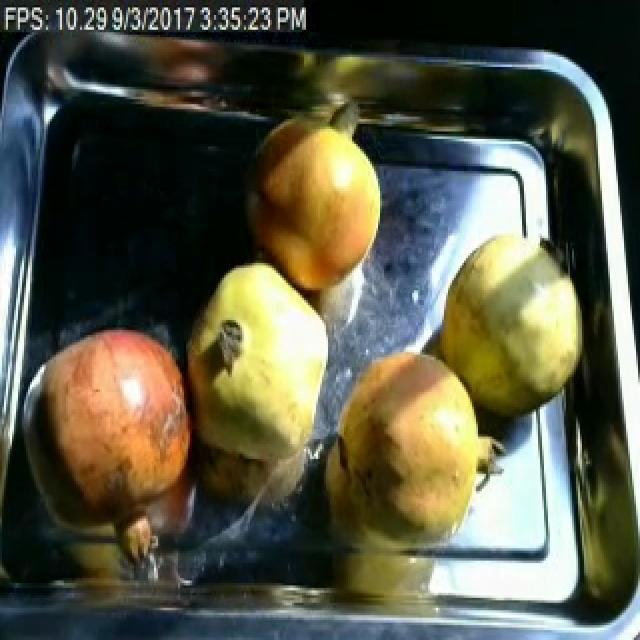fruit: (18, 313, 212, 563), (320, 332, 512, 560), (174, 256, 344, 498), (430, 216, 588, 424), (240, 101, 386, 302)
